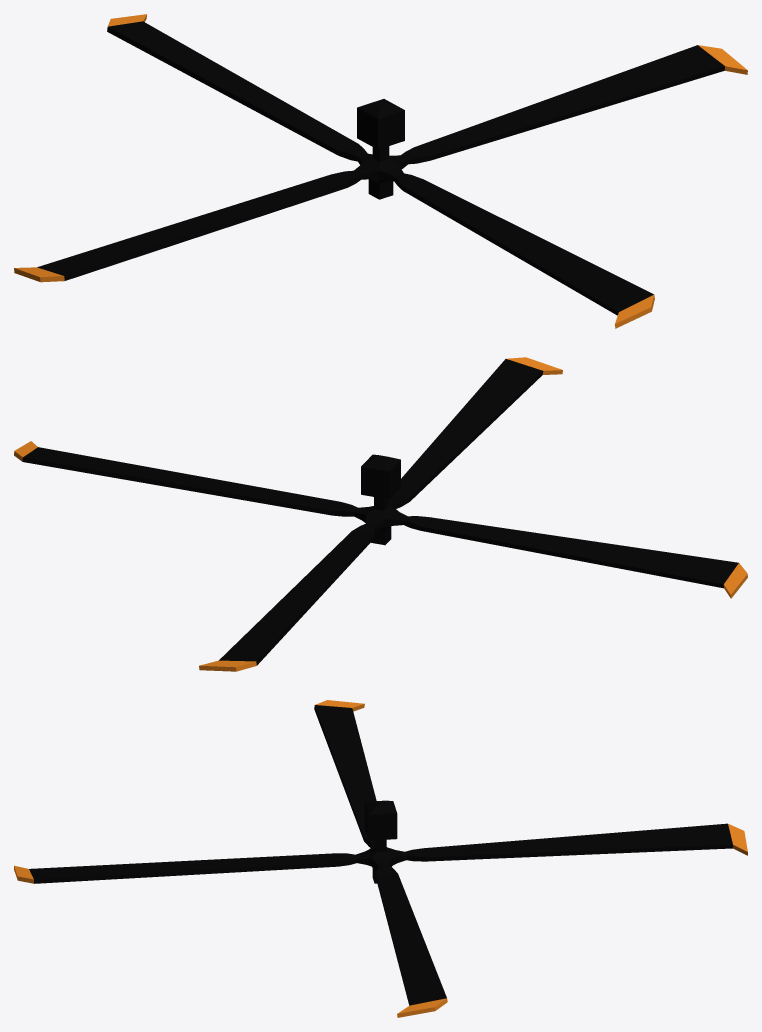
Rendered from heavy_gunship_propeller.glb.
3 views of the same model, one above another, from view 1: azimuth 30°, elevation 25°; view 2: azimuth 150°, elevation 25°; view 3: azimuth 270°, elevation 25° (orthographic). The views are drawn at different scales.
Visible parts, largest first — view 1: Helicopter_Propeller; view 2: Helicopter_Propeller; view 3: Helicopter_Propeller.
Part boxes in pixels (x1,y1,x2,y2): Helicopter_Propeller: [14, 14, 747, 328]; Helicopter_Propeller: [14, 357, 747, 671]; Helicopter_Propeller: [14, 700, 747, 1017].
Bounding box in the file's own units: 12.52 × 1.45 × 12.52.
1 material, 1 textured.
